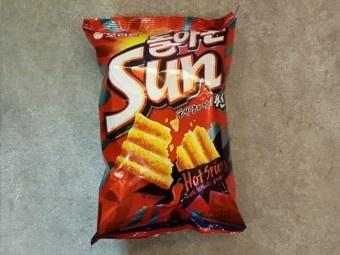snack: (82, 12, 248, 248)
